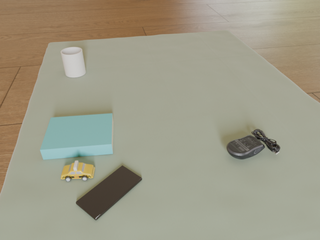book: (40, 114, 113, 159)
cup: (61, 47, 86, 77)
mouse: (227, 129, 280, 159)
phone: (76, 166, 142, 220)
toy_car: (61, 161, 95, 181)
